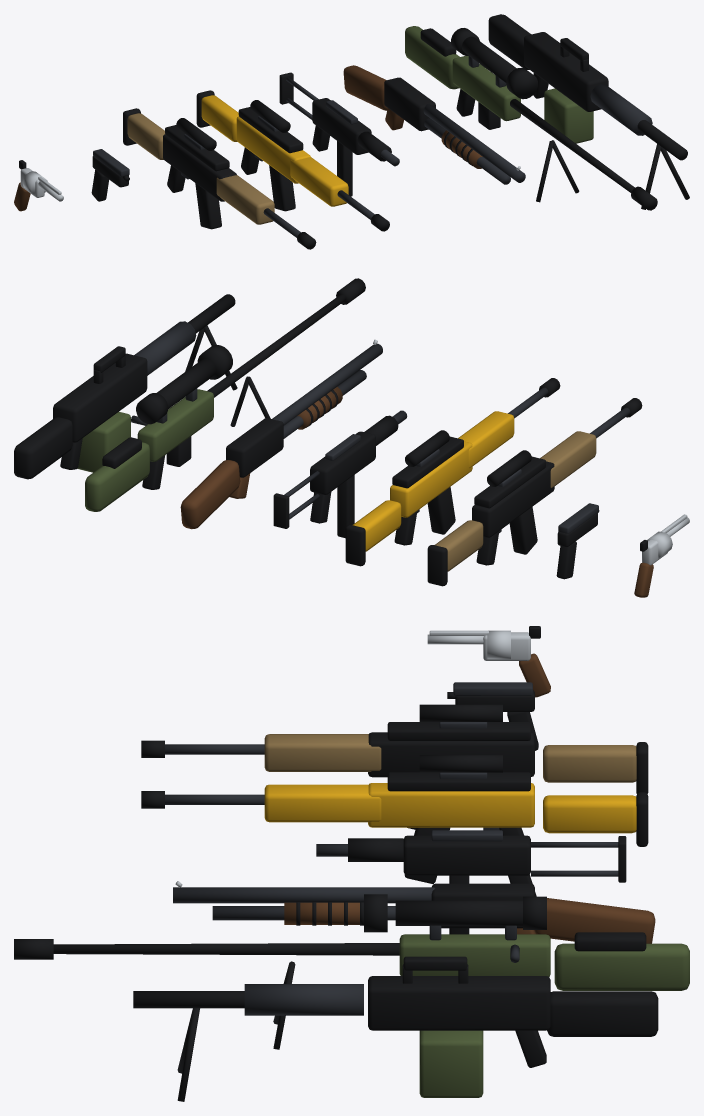
The model's file is armas.glb.
3 views of the same model, one above another, from view 1: azimuth 30°, elevation 25°; view 2: azimuth 150°, elevation 25°; view 3: azimuth 270°, elevation 25° (orthographic). The views are drawn at different scales.
Visible parts, largest first — view 1: gun_lmg, gun_sniper, gun_gold, gun_rifle, gun_shotgun, gun_smg, gun_pistol, gun_revolver; view 2: gun_sniper, gun_lmg, gun_gold, gun_rifle, gun_shotgun, gun_smg, gun_pistol, gun_revolver; view 3: gun_lmg, gun_sniper, gun_gold, gun_rifle, gun_shotgun, gun_smg, gun_revolver, gun_pistol.
Boxes of the visible parts, bbox=[...] form: gun_lmg: bbox=[488, 14, 689, 209]; gun_sniper: bbox=[405, 26, 657, 210]; gun_gold: bbox=[196, 90, 389, 231]; gun_rifle: bbox=[123, 108, 316, 249]; gun_shotgun: bbox=[343, 65, 525, 184]; gun_smg: bbox=[279, 72, 399, 196]; gun_pistol: bbox=[91, 149, 129, 201]; gun_revolver: bbox=[14, 160, 63, 211]; gun_sniper: bbox=[85, 278, 365, 511]; gun_lmg: bbox=[14, 294, 237, 479]; gun_gold: bbox=[345, 378, 560, 566]; gun_rifle: bbox=[427, 398, 642, 586]; gun_shotgun: bbox=[180, 339, 382, 529]; gun_smg: bbox=[273, 410, 407, 538]; gun_pistol: bbox=[556, 503, 599, 579]; gun_revolver: bbox=[634, 514, 689, 597]; gun_lmg: bbox=[133, 956, 658, 1101]; gun_sniper: bbox=[14, 894, 689, 1049]; gun_gold: bbox=[141, 755, 648, 883]; gun_rifle: bbox=[141, 704, 648, 829]; gun_shotgun: bbox=[173, 881, 655, 943]; gun_smg: bbox=[316, 830, 626, 934]; gun_revolver: bbox=[427, 626, 550, 697]; gun_pistol: bbox=[447, 682, 538, 750].
Bounding box in the file's own units: 2.23 × 0.428 × 1.7.
